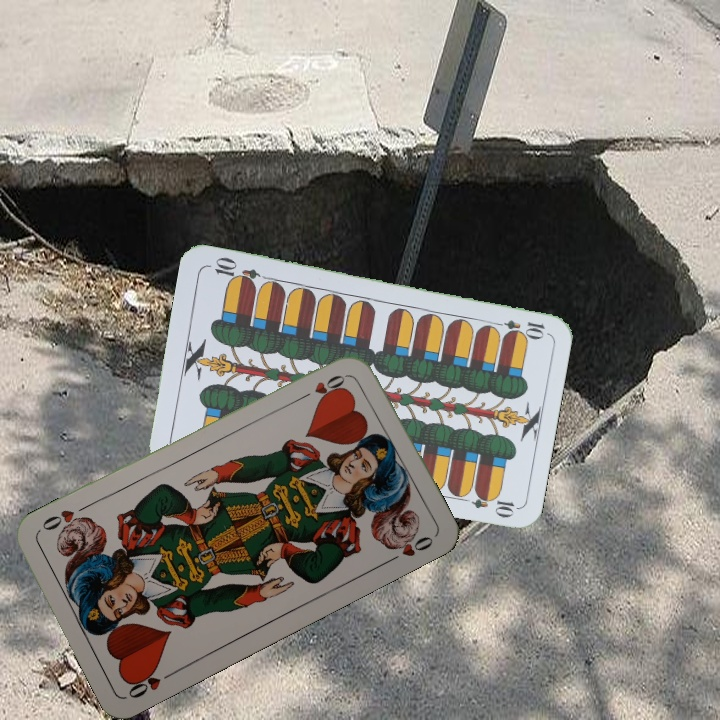E10: (488, 315, 547, 338)
HO: (123, 665, 178, 701), (295, 370, 351, 403)
